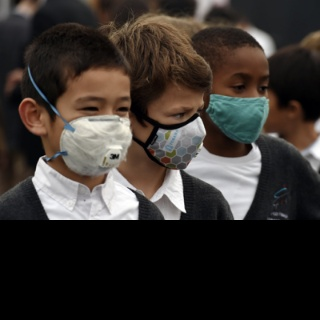with_mask: (48, 93, 133, 177), (140, 101, 206, 171), (206, 72, 270, 144)
